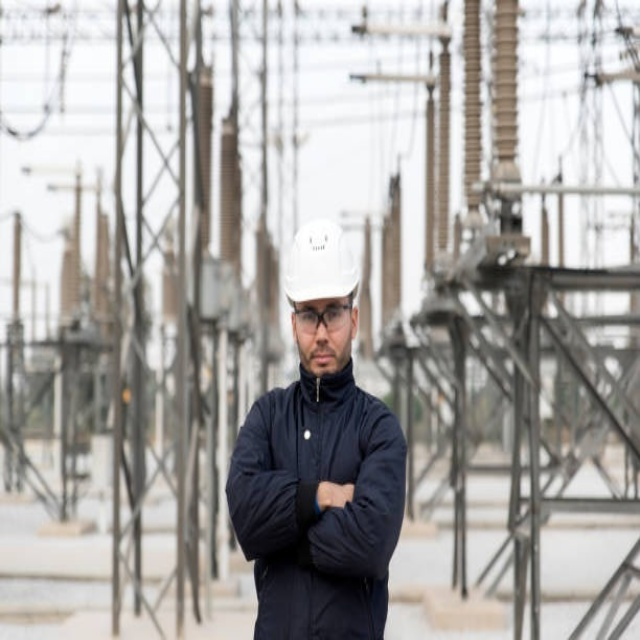Gafas: (293, 301, 353, 332)
Sin_mascara: (304, 345, 336, 373)
